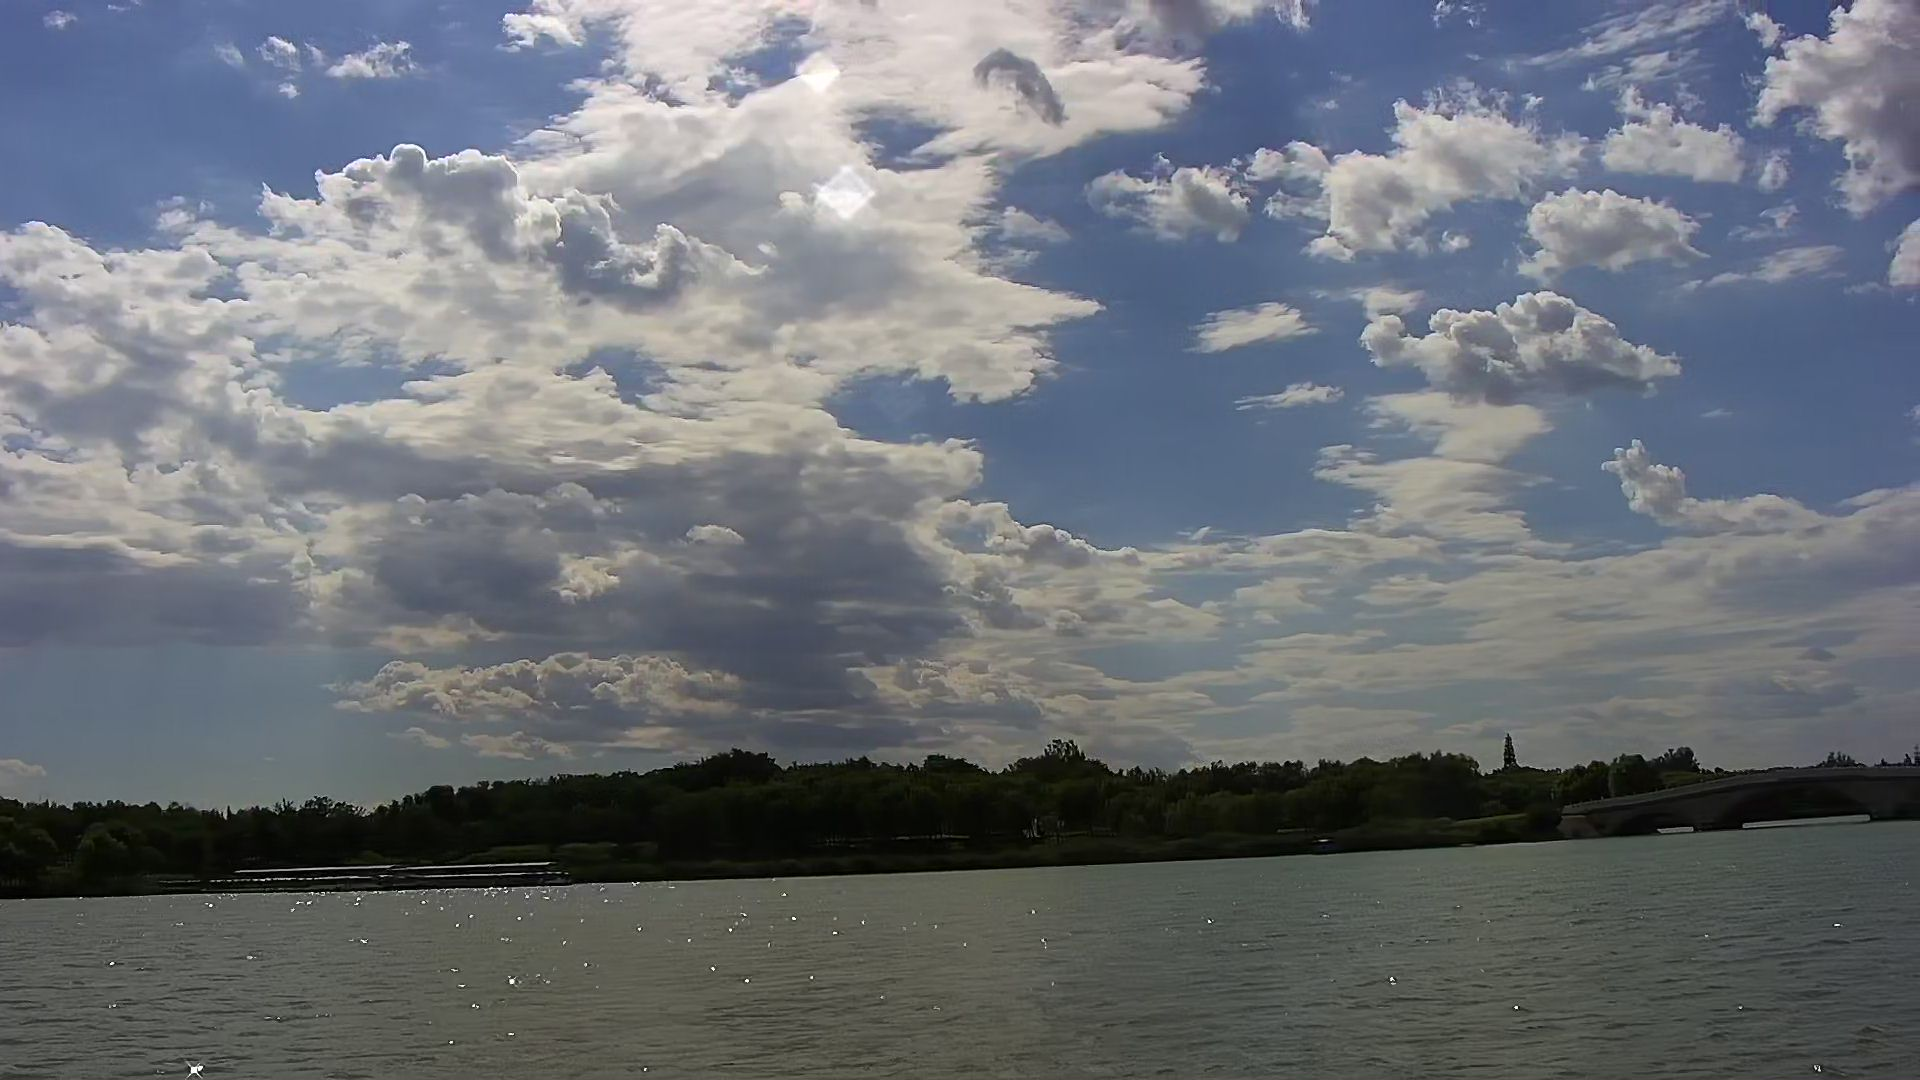bridge: (1559, 762, 1920, 835)
harbor: (219, 855, 558, 895)
